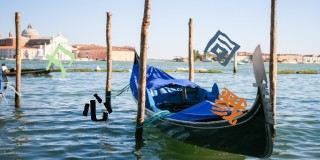力: (45, 44, 73, 77)
同: (205, 29, 240, 68)
心: (82, 93, 113, 122)
戮: (211, 88, 248, 126)
